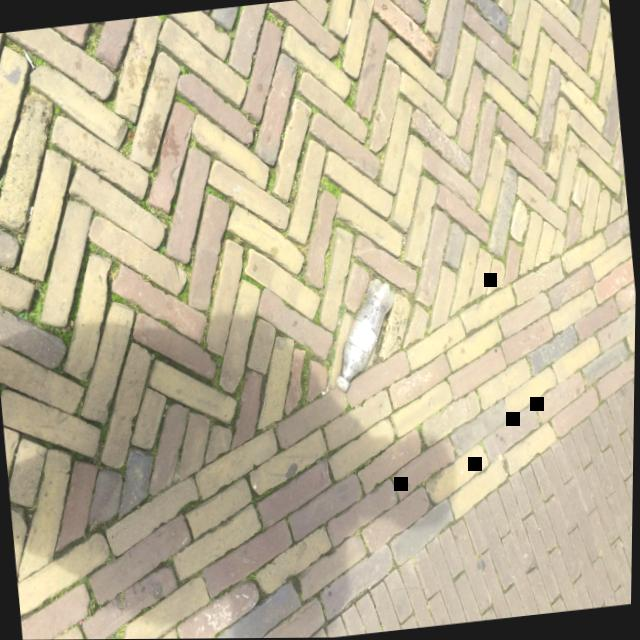Clear plastic bottle: (337, 278, 394, 390)
Plastic bottle cap: (336, 377, 349, 391)
Unlabeled litter: (23, 49, 35, 68)
